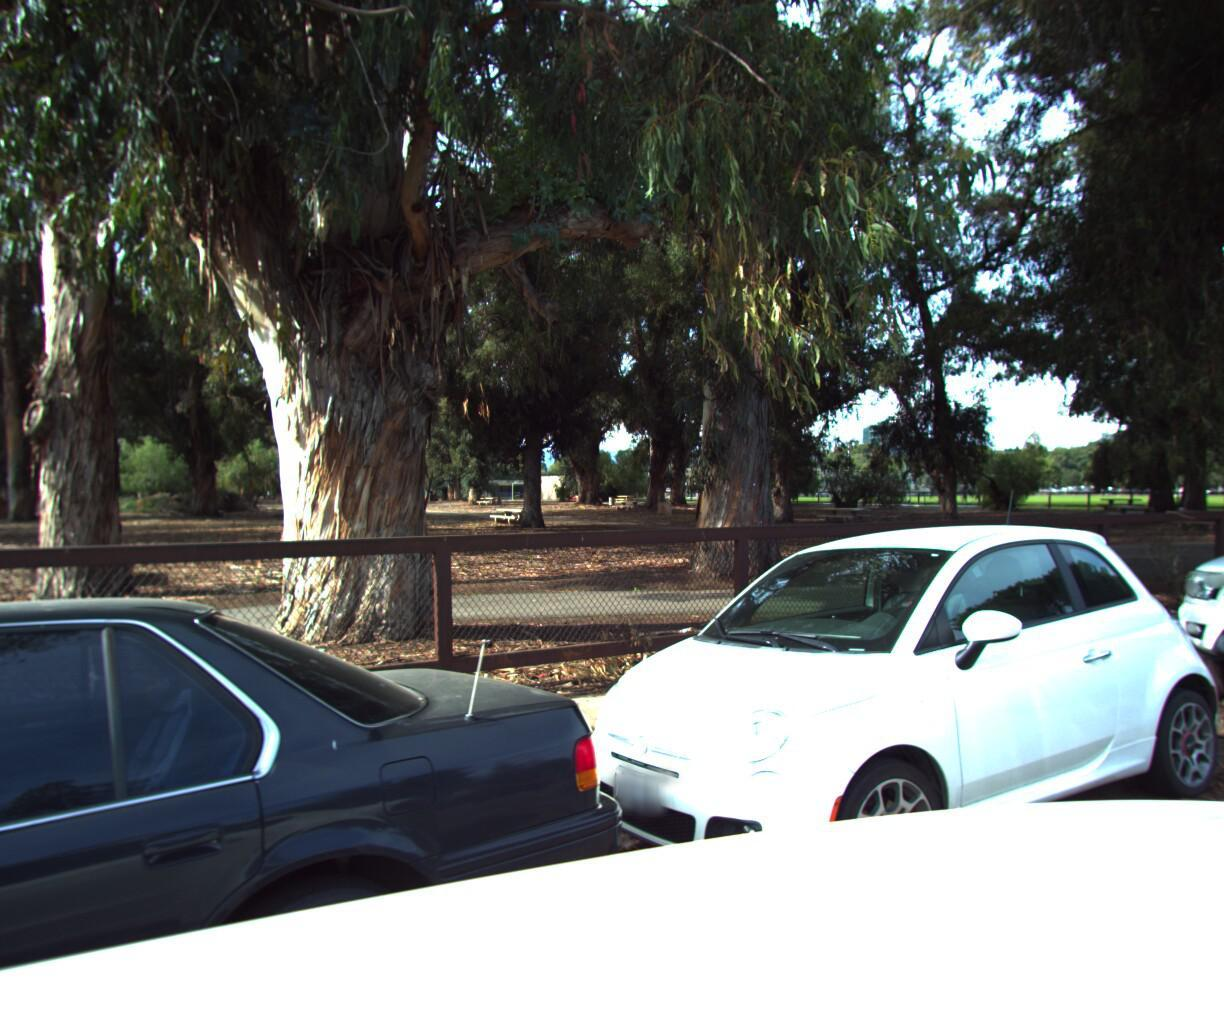car: (543, 513, 1224, 982), (0, 552, 658, 1024), (1150, 462, 1224, 767)
